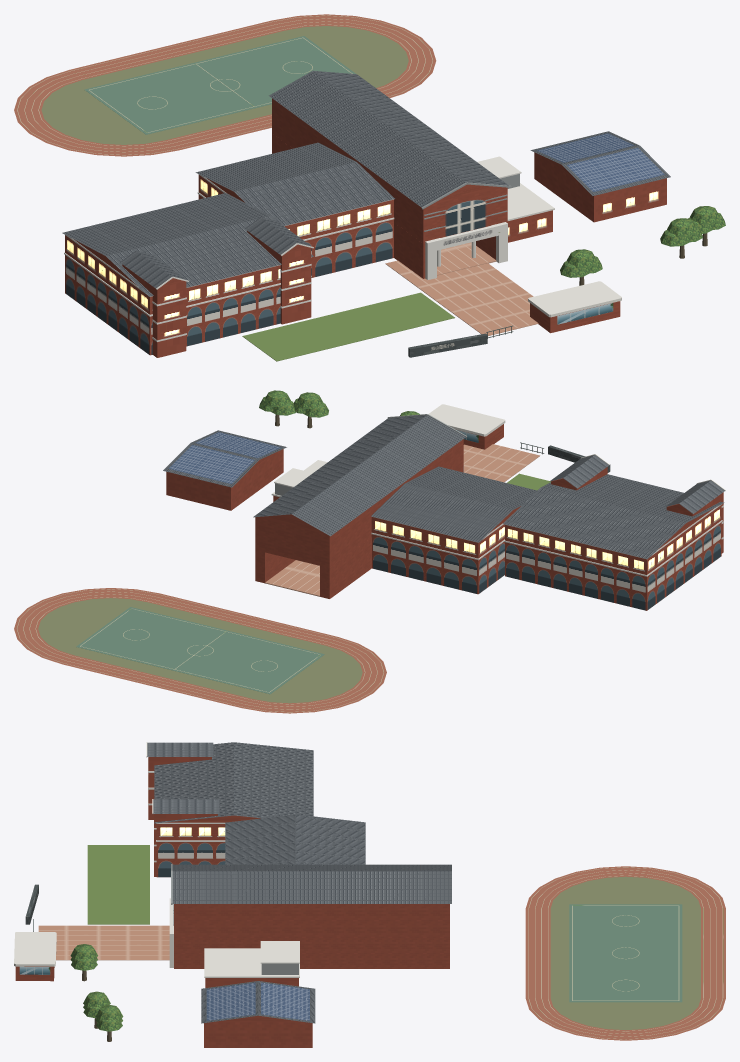
File: hamasen-gushan-school.glb
The picture shows the model from 3 angles, top to bottom: view 1: azimuth 30°, elevation 25°; view 2: azimuth 150°, elevation 25°; view 3: azimuth 270°, elevation 25°; orthographic projection. The views are drawn at different scales.
Parts seen in each view (by area): view 1: hamasen-gushan-school.001; view 2: hamasen-gushan-school.001; view 3: hamasen-gushan-school.001.
Boxes of the visible parts, <box> form: hamasen-gushan-school.001: <box>14,14,725,361</box>; hamasen-gushan-school.001: <box>14,390,725,713</box>; hamasen-gushan-school.001: <box>14,742,725,1047</box>.
Size of the model in its own units: 92.56 by 14.15 by 114.
Materials: 1 (1 with a texture image).
